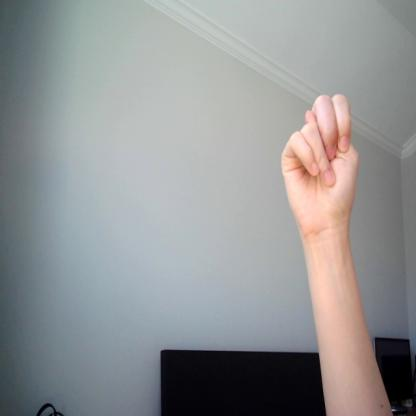N: (277, 89, 362, 237)
